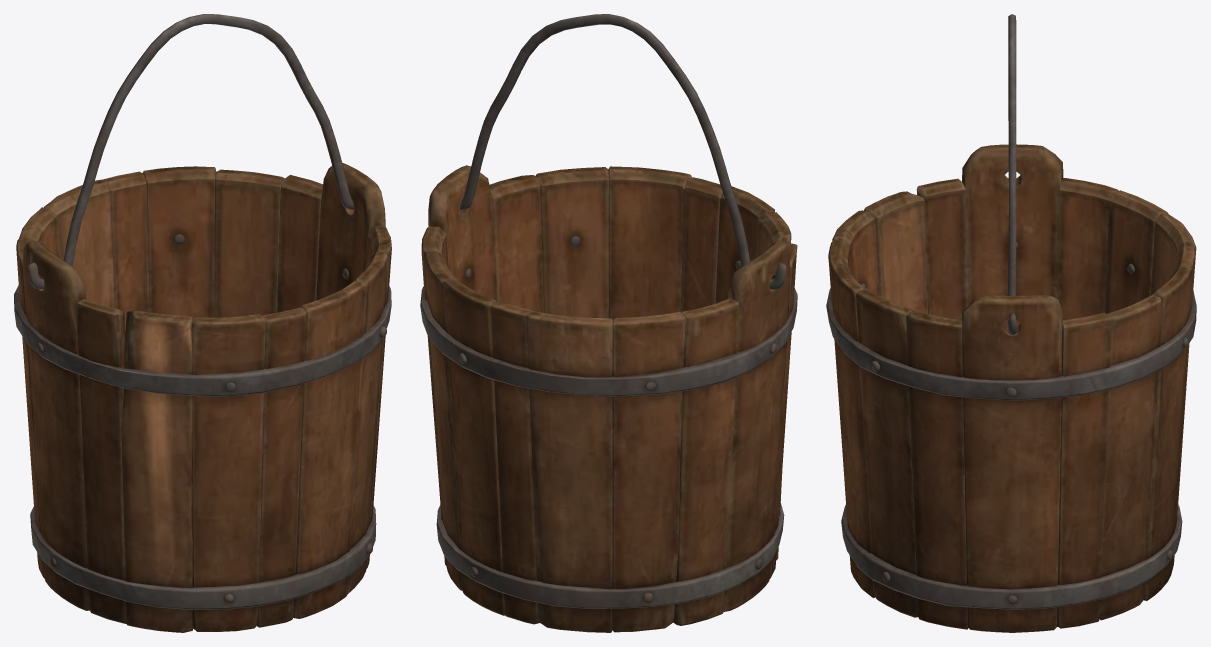
Rendered from wooden_bucket_01.glb.
3 views of the same model, side by side, from view 1: azimuth 30°, elevation 25°; view 2: azimuth 150°, elevation 25°; view 3: azimuth 270°, elevation 25° (orthographic).
Parts seen in each view (by area): view 1: wooden_bucket_01; view 2: wooden_bucket_01; view 3: wooden_bucket_01.
Part boxes in pixels (box(x1,y1,x2,y2)): wooden_bucket_01: box(14, 14, 391, 632); wooden_bucket_01: box(420, 14, 797, 632); wooden_bucket_01: box(826, 14, 1196, 632).
Size of the model in its own units: 0.367 by 0.5499 by 0.3422.
1 material, 1 textured.
